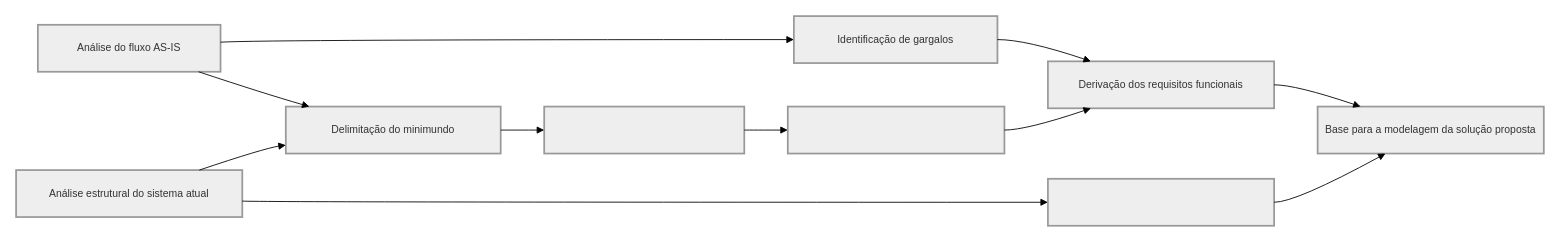
Some shapes in this 1559 by 241 pixel diagram are drawn without their labels. Here are the shapes that lost their labels. From the top down, the centre of each, then its label:
point 644,129: Identificação dos atores
point 895,129: Definição dos casos de uso
point 1161,201: Derivação dos requisitos não funcionais
